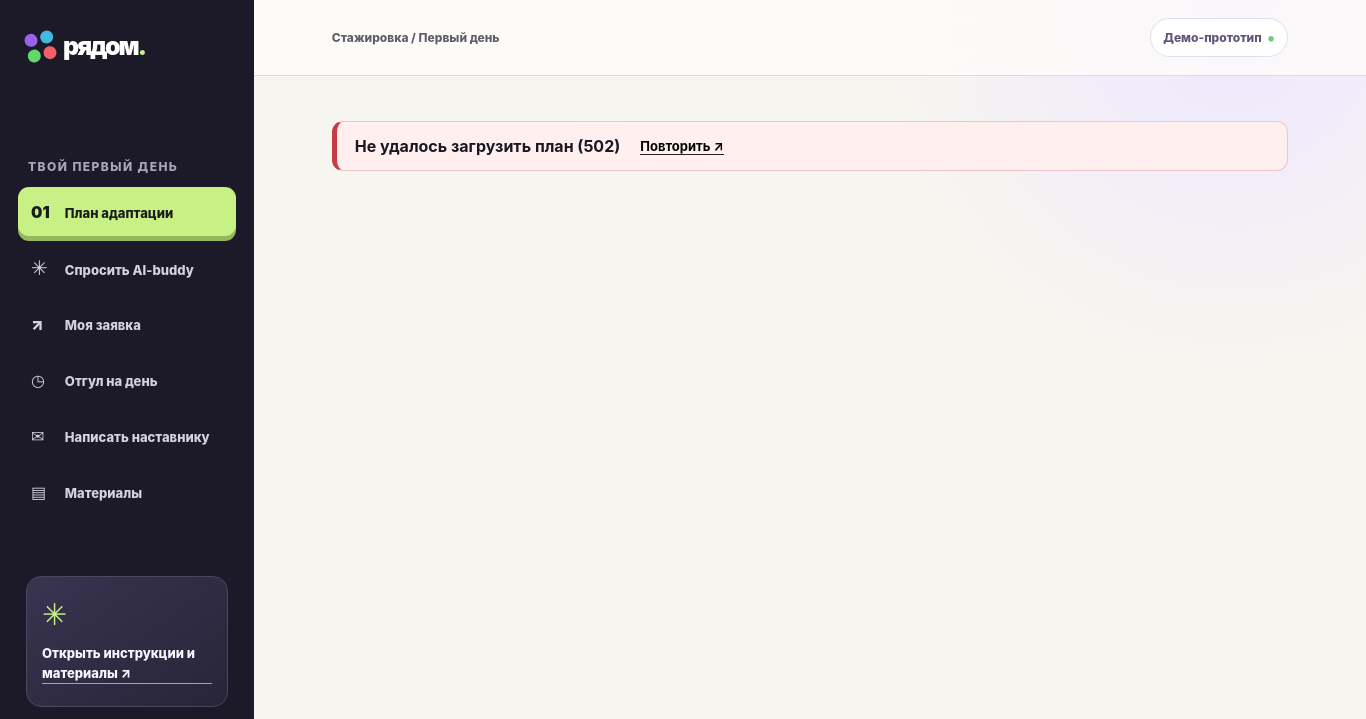
Test: shows plan loading, handles an HTML server error safely, and retries the assigned plan
Later steps or results of the test are not shown.
Check: the message shows "Не удалось загрузить план (502)", box [355, 136, 620, 156]
Step 1. Click the button "Повторить ↗" → click(682, 146), box [640, 138, 724, 154]
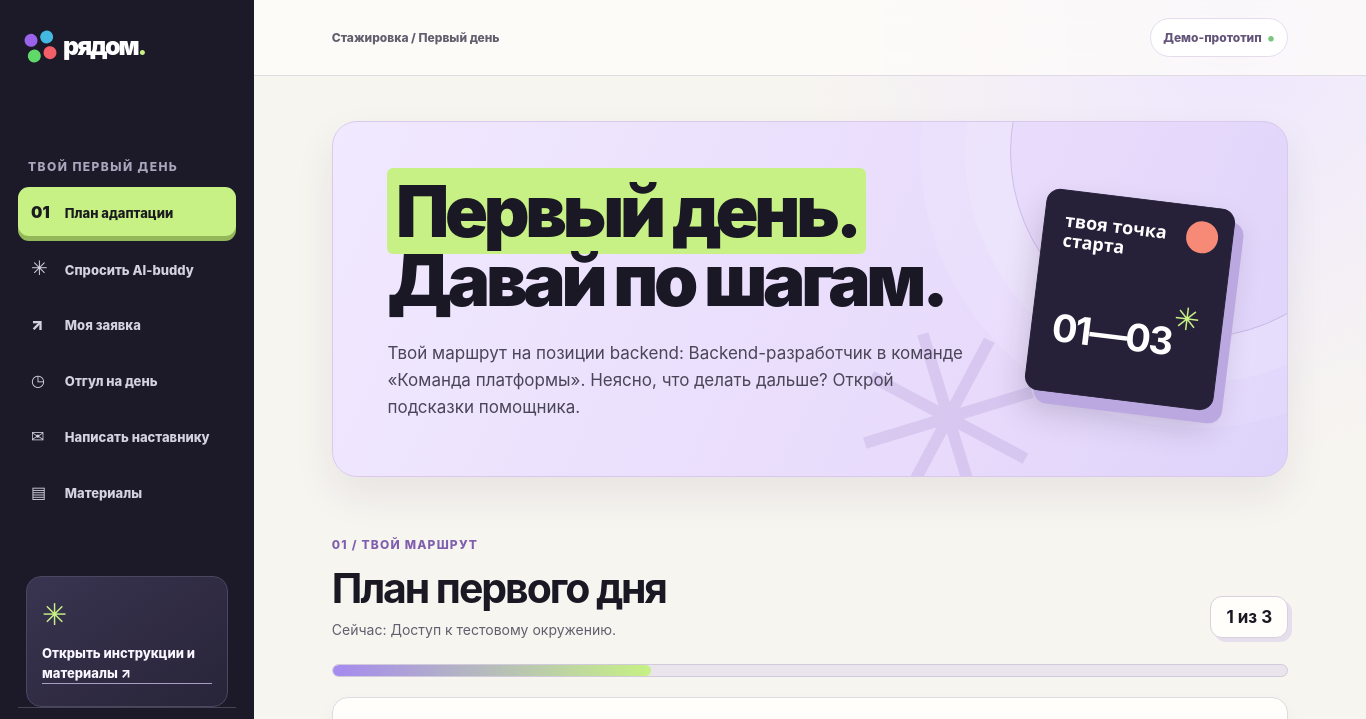
Check: the text "Твой маршрут на позиции backend" shows "Команда платформы", box [397, 370, 571, 390]
